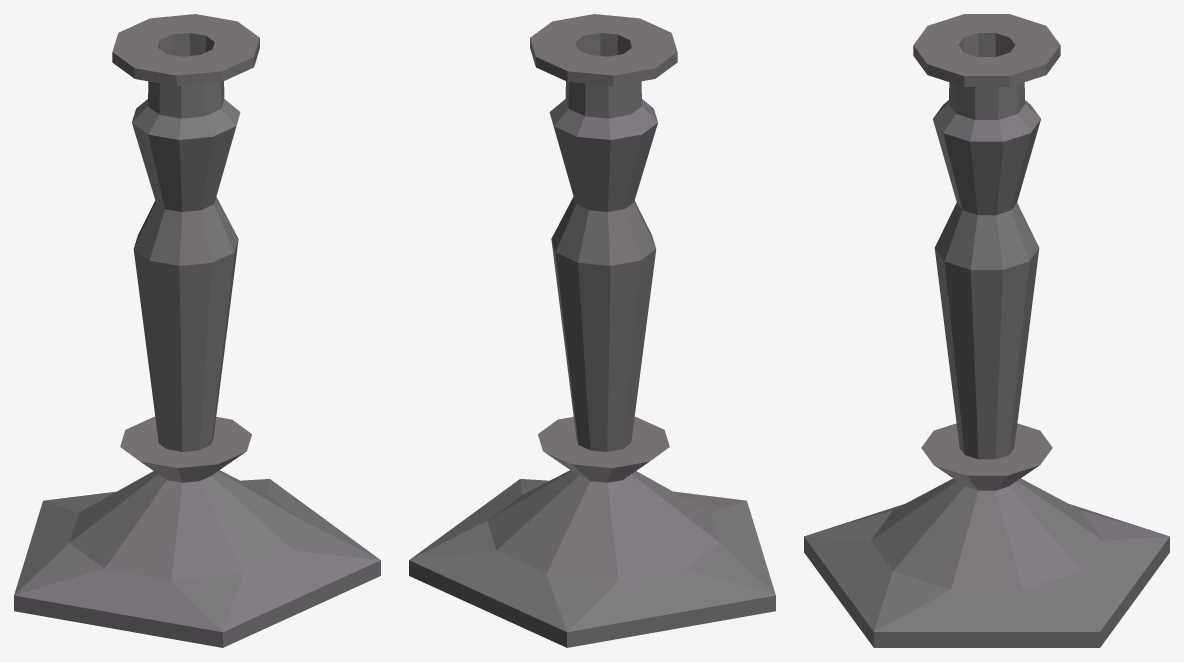
Rendered from candlestick03.obj.
3 renders of one model, left to right at view 1: azimuth 30°, elevation 25°; view 2: azimuth 150°, elevation 25°; view 3: azimuth 270°, elevation 25°, orthographic.
Visible parts, largest first — view 1: Cylinder; view 2: Cylinder; view 3: Cylinder.
Boxes of the visible parts, left/top/right/bottom form: Cylinder: left=14, top=14, right=380, bottom=647; Cylinder: left=409, top=14, right=775, bottom=647; Cylinder: left=804, top=14, right=1169, bottom=647.
Bounding box in the file's own units: 0.1208 × 0.1944 × 0.1208.
